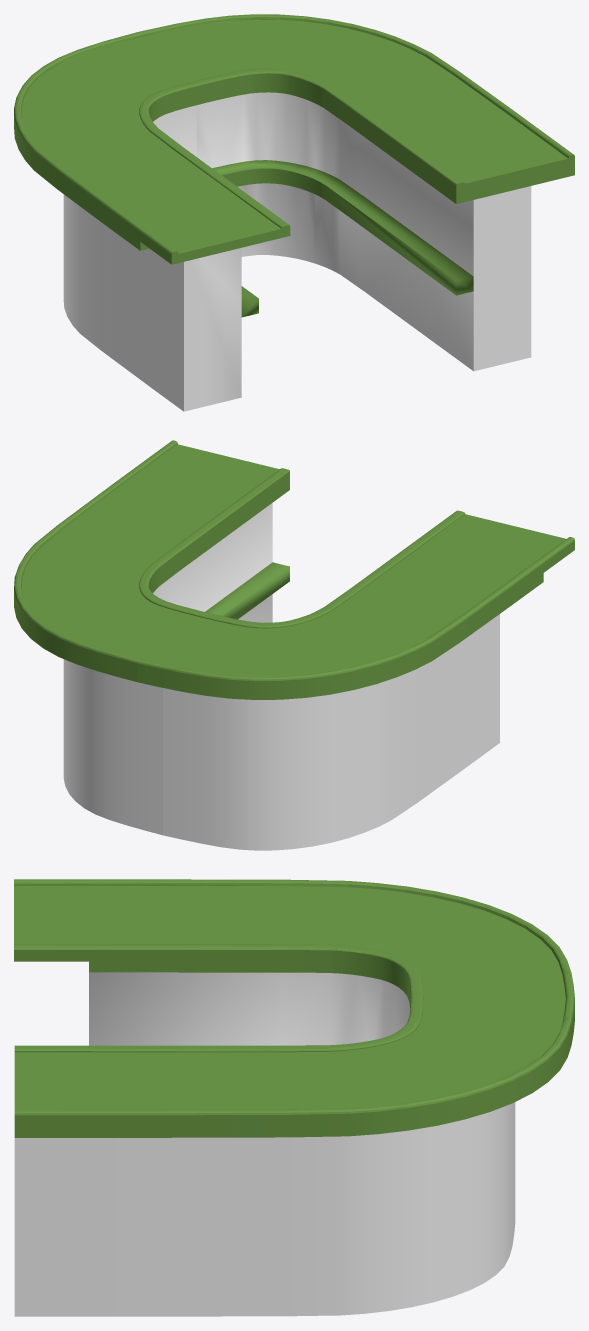
The model's file is 16bdcd62-c3aa-48bc-82be-50735ac88851.glb.
3 renders of one model, top to bottom at view 1: azimuth 30°, elevation 25°; view 2: azimuth 150°, elevation 25°; view 3: azimuth 270°, elevation 25°, orthographic. The views are drawn at different scales.
Parts seen in each view (by area): view 1: RoundBar.004; view 2: RoundBar.004; view 3: RoundBar.004.
Part boxes in pixels (left/top/right/bottom): RoundBar.004: left=14, top=14, right=574, bottom=411; RoundBar.004: left=14, top=440, right=574, bottom=850; RoundBar.004: left=14, top=879, right=574, bottom=1316.
Size of what is drawn, in the model's own units: 2.42 by 1.1 by 2.45.
1 material, 1 textured.
